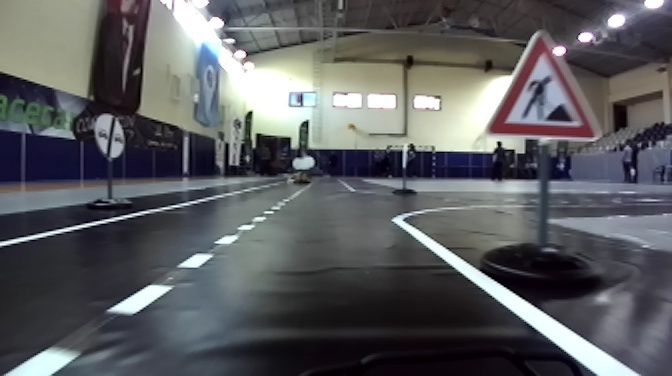yol_yapimi: (466, 26, 611, 139)
